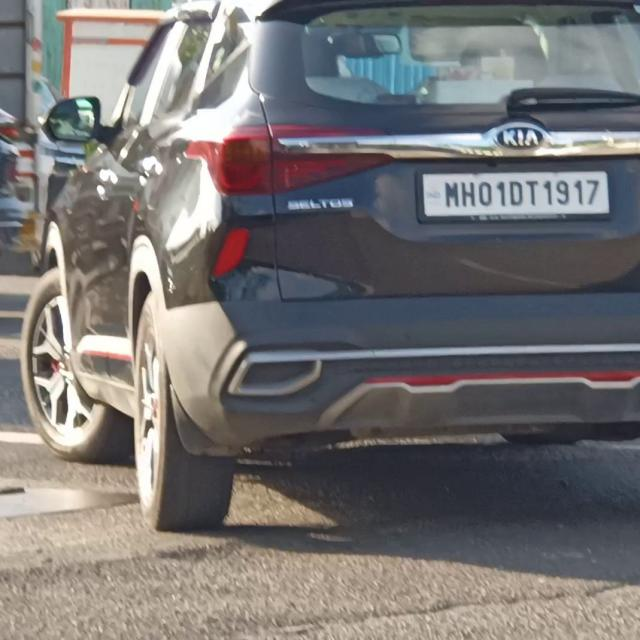Plate: (423, 172, 612, 216)
